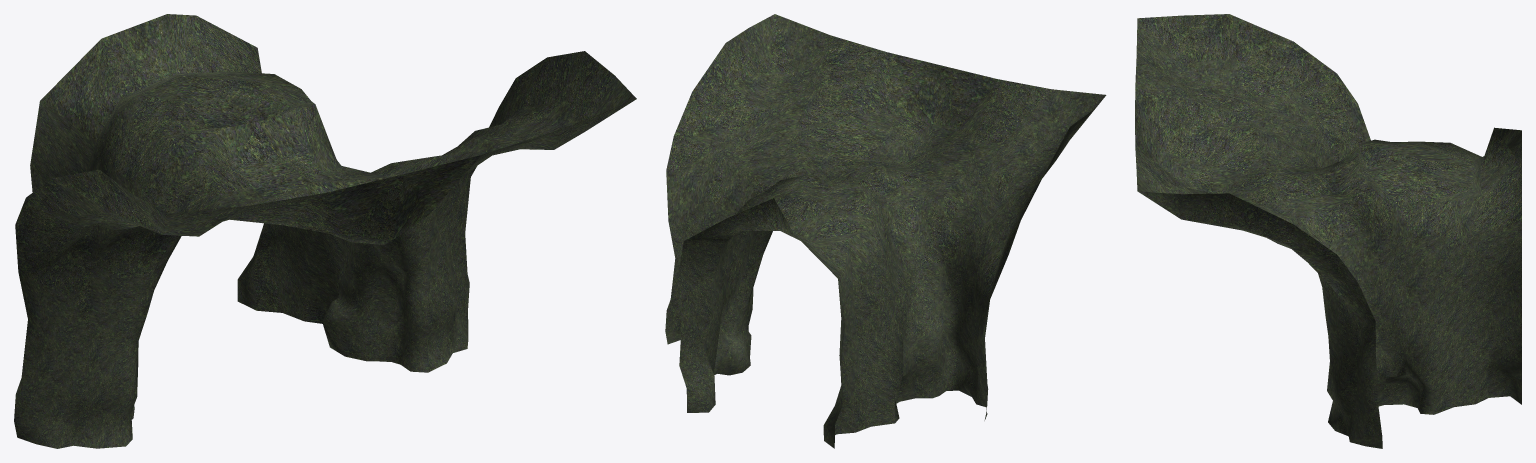
The model's file is cliff_tunnel_00.fbx.
The picture shows the model from 3 angles, left to right: view 1: azimuth 30°, elevation 25°; view 2: azimuth 150°, elevation 25°; view 3: azimuth 270°, elevation 25°; orthographic projection. The views are drawn at different scales.
Parts seen in each view (by area): view 1: cliff_tunnel_02; view 2: cliff_tunnel_02; view 3: cliff_tunnel_02.
Boxes of the visible parts, x1,y1,x2,y2 form: cliff_tunnel_02: [14, 14, 636, 448]; cliff_tunnel_02: [665, 14, 1106, 448]; cliff_tunnel_02: [1135, 14, 1521, 448].
Size of the model in its own units: 122 by 81.9 by 109.
